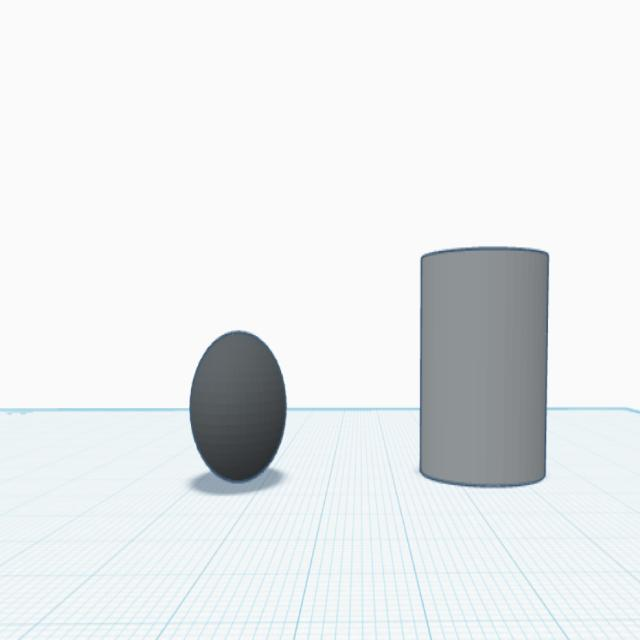sphere: (186, 325, 289, 487)
